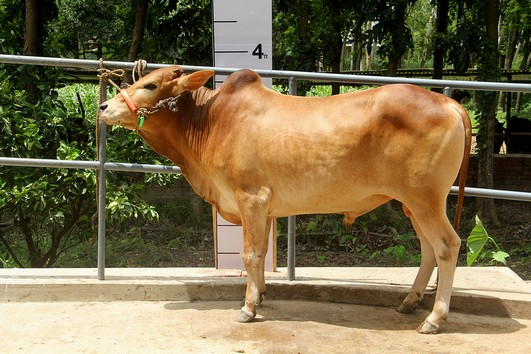cow: (91, 60, 477, 339)
